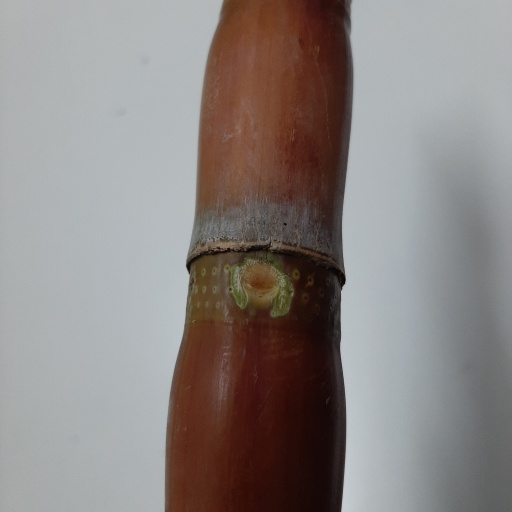Damage_Bud: (232, 258, 296, 316)
